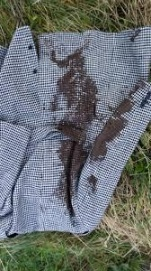earth: (50, 51, 102, 120), (54, 124, 86, 205), (109, 110, 123, 135), (92, 136, 106, 159)
